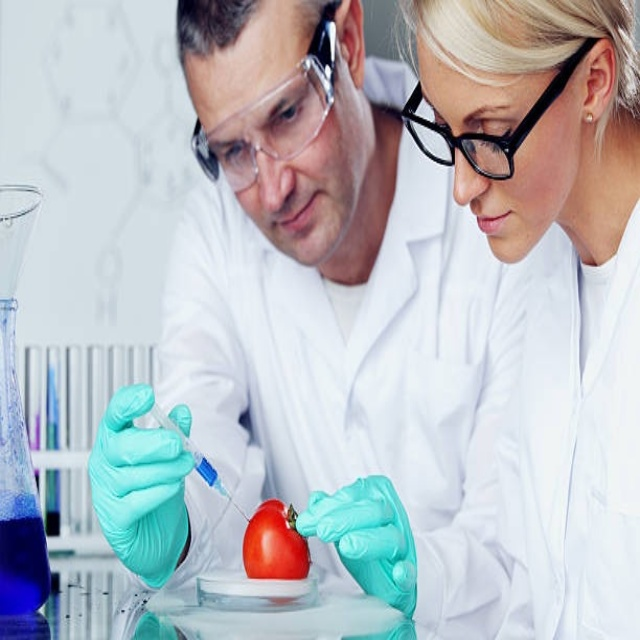Gafas: (399, 34, 599, 181), (194, 6, 339, 194)
Guantes: (90, 381, 198, 593), (296, 464, 417, 620)
Sin_mascara: (266, 184, 326, 267), (470, 202, 527, 264)
